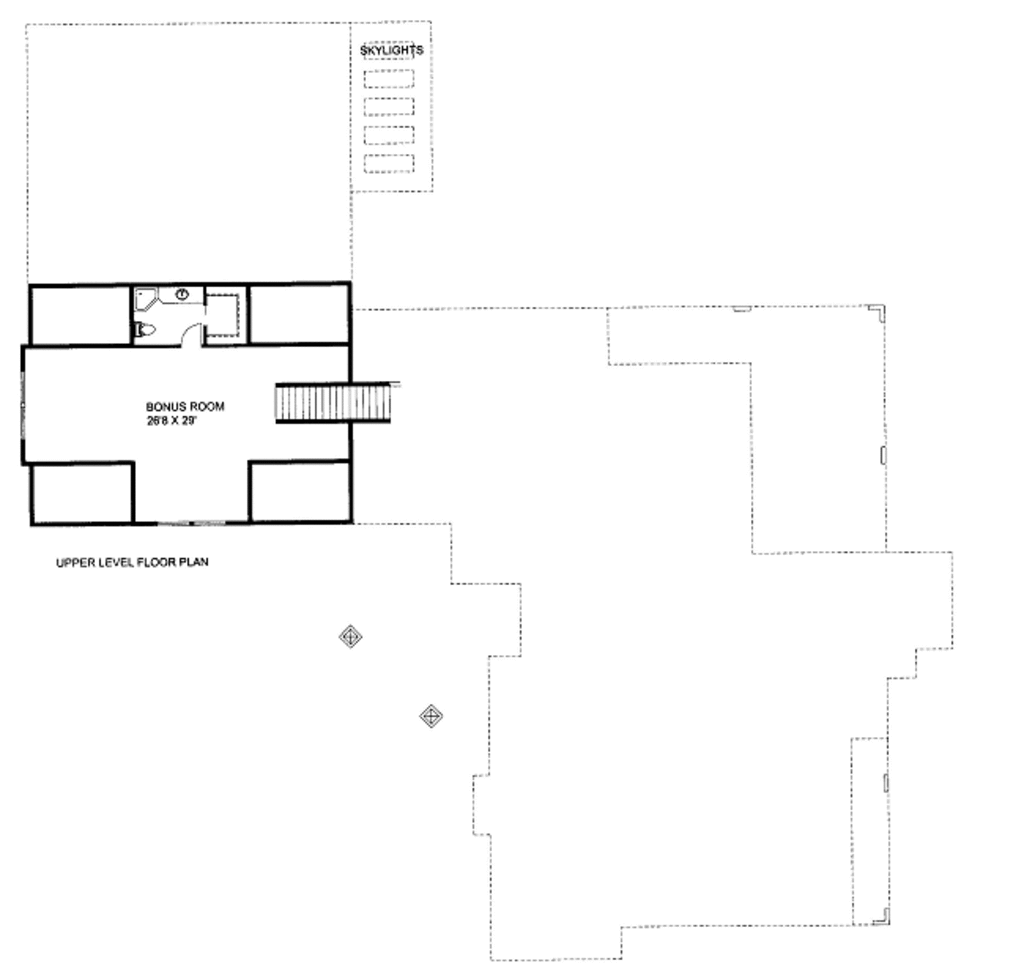door: (176, 315, 207, 345)
large_sink: (120, 319, 161, 343)
small_sink: (161, 284, 200, 306)
stairs: (272, 376, 416, 425)
